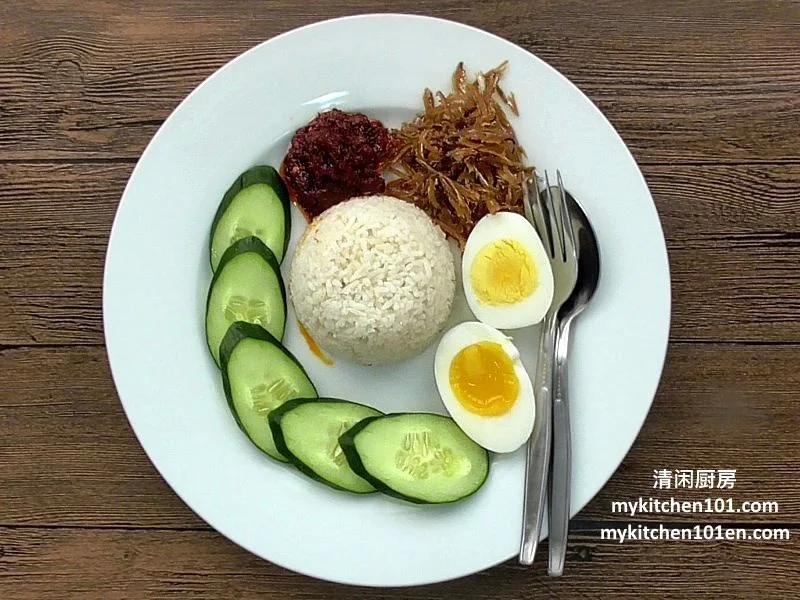Anchovies: (383, 60, 535, 247)
Boiled-Egg: (433, 212, 554, 455)
Cucumber: (206, 166, 490, 505)
Rice: (279, 196, 461, 371)
Sambal: (284, 111, 394, 221)
